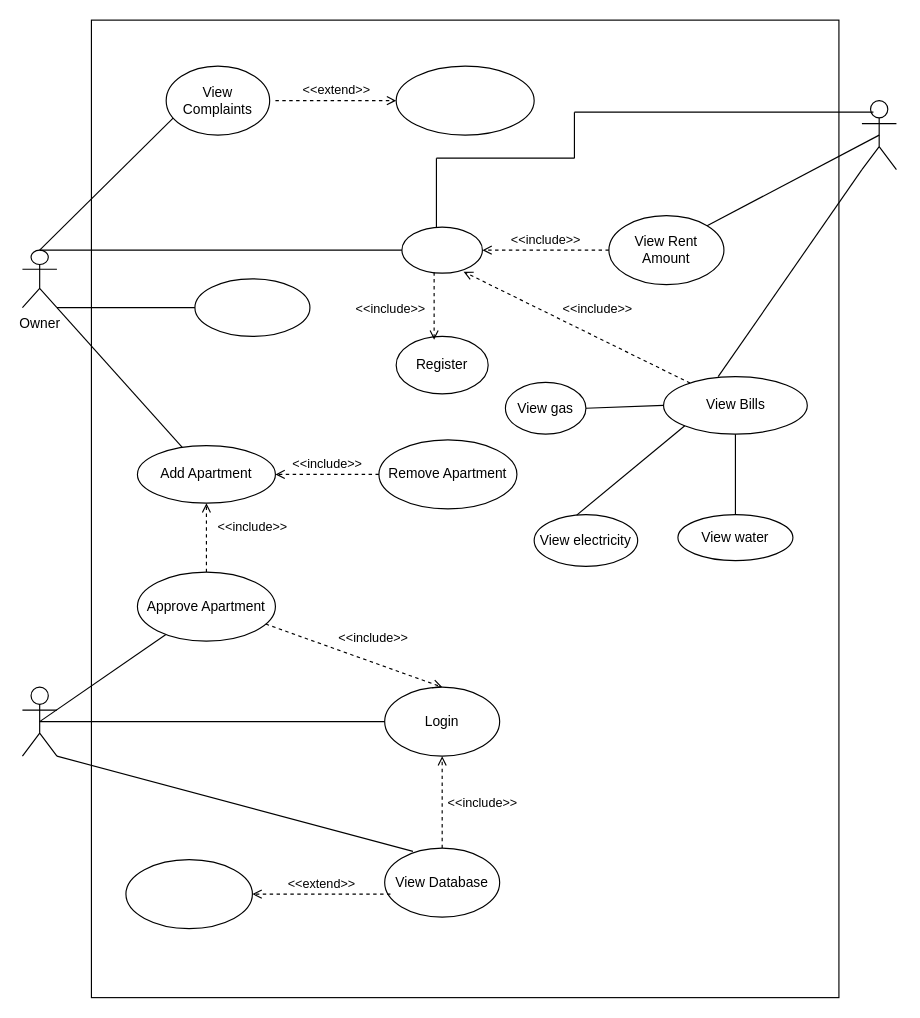
Some shapes in this 920 by 1018 pixel diagram are drawn without their labels. Each missing label, with the centre of its shape:
"Admin" belongs at [39,721].
"Edit Database" belongs at [188,893].
"Log In" belongs at [441,249].
"Provide feedback" belongs at [464,100].
"Tenant" belongs at [878,134].
"View tenant details" belongs at [252,307].
